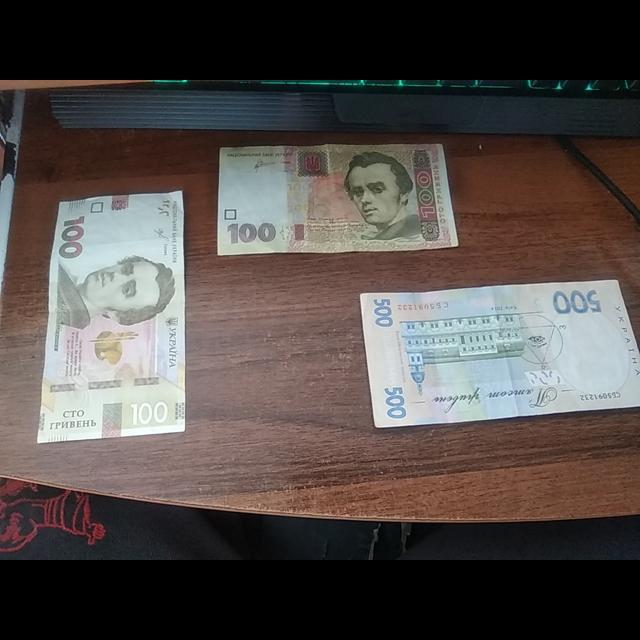100uah: (37, 191, 185, 445), (219, 146, 460, 258)
500uah: (360, 279, 640, 429)
